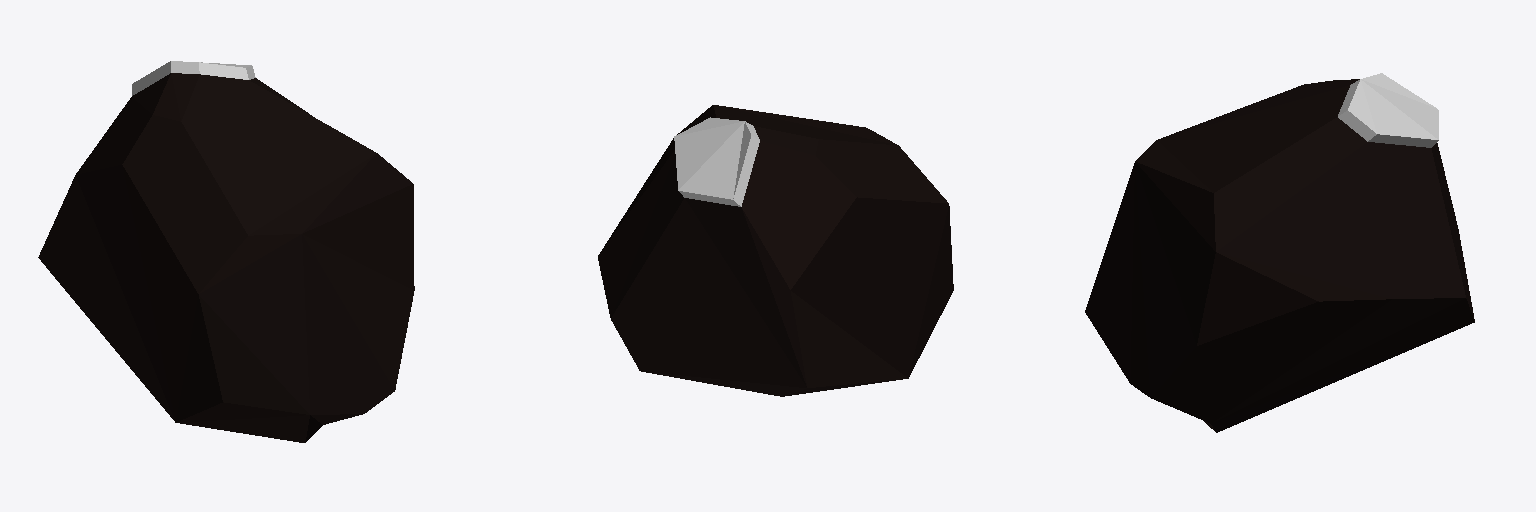
Rendered from Rock_3.obj.
3 renders of one model, left to right at view 1: azimuth 30°, elevation 25°; view 2: azimuth 150°, elevation 25°; view 3: azimuth 270°, elevation 25°, orthographic.
Visible parts, largest first — view 1: Cube.006; view 2: Cube.006; view 3: Cube.006.
Part boxes in pixels (x1,y1,x2,y2): Cube.006: (38, 61, 414, 442); Cube.006: (598, 105, 953, 396); Cube.006: (1085, 73, 1474, 432).
Size of the model in its own units: 1.08 by 1.36 by 1.42.